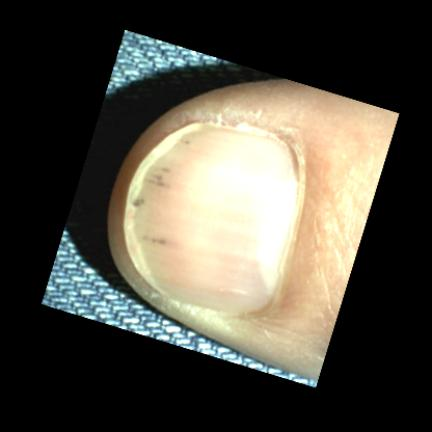Nail: (124, 122, 304, 313)
